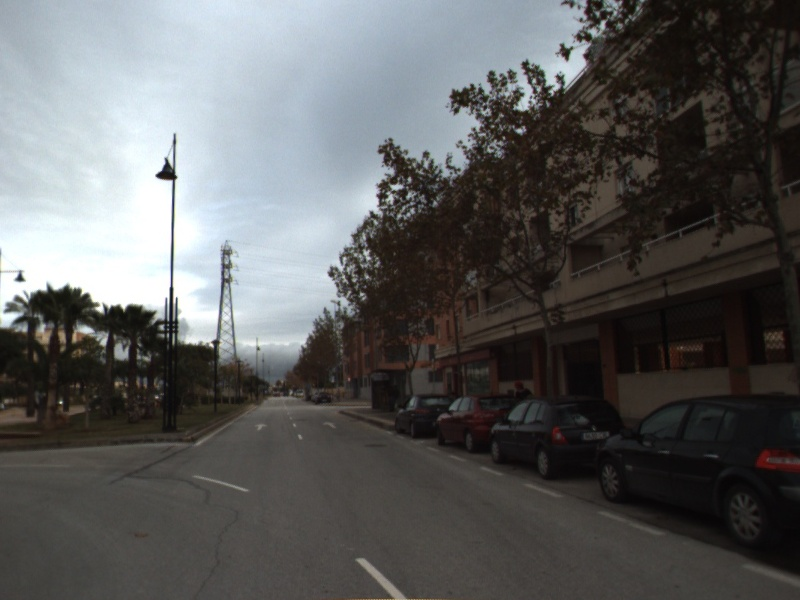STRAIGHT: (252, 421, 270, 432), (321, 419, 339, 430)
